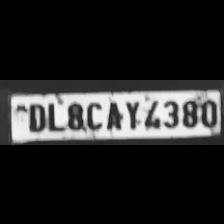0: (198, 96, 218, 126)
3: (160, 96, 180, 128)
4: (141, 97, 161, 129)
8: (64, 100, 84, 130), (180, 97, 198, 127)
A: (103, 98, 123, 130)
C: (84, 98, 104, 130)
D: (24, 100, 46, 132)
L: (44, 99, 64, 130)
Y: (122, 96, 142, 130)
